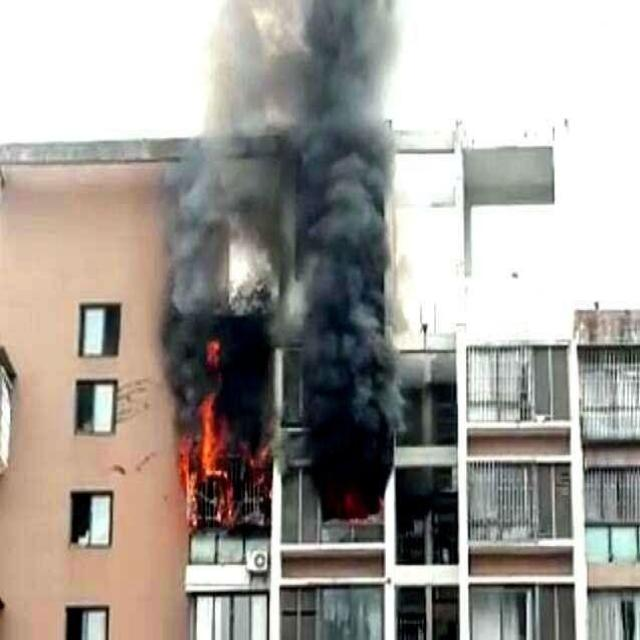Fire: (178, 337, 269, 527)
Smoke: (165, 1, 414, 438)
